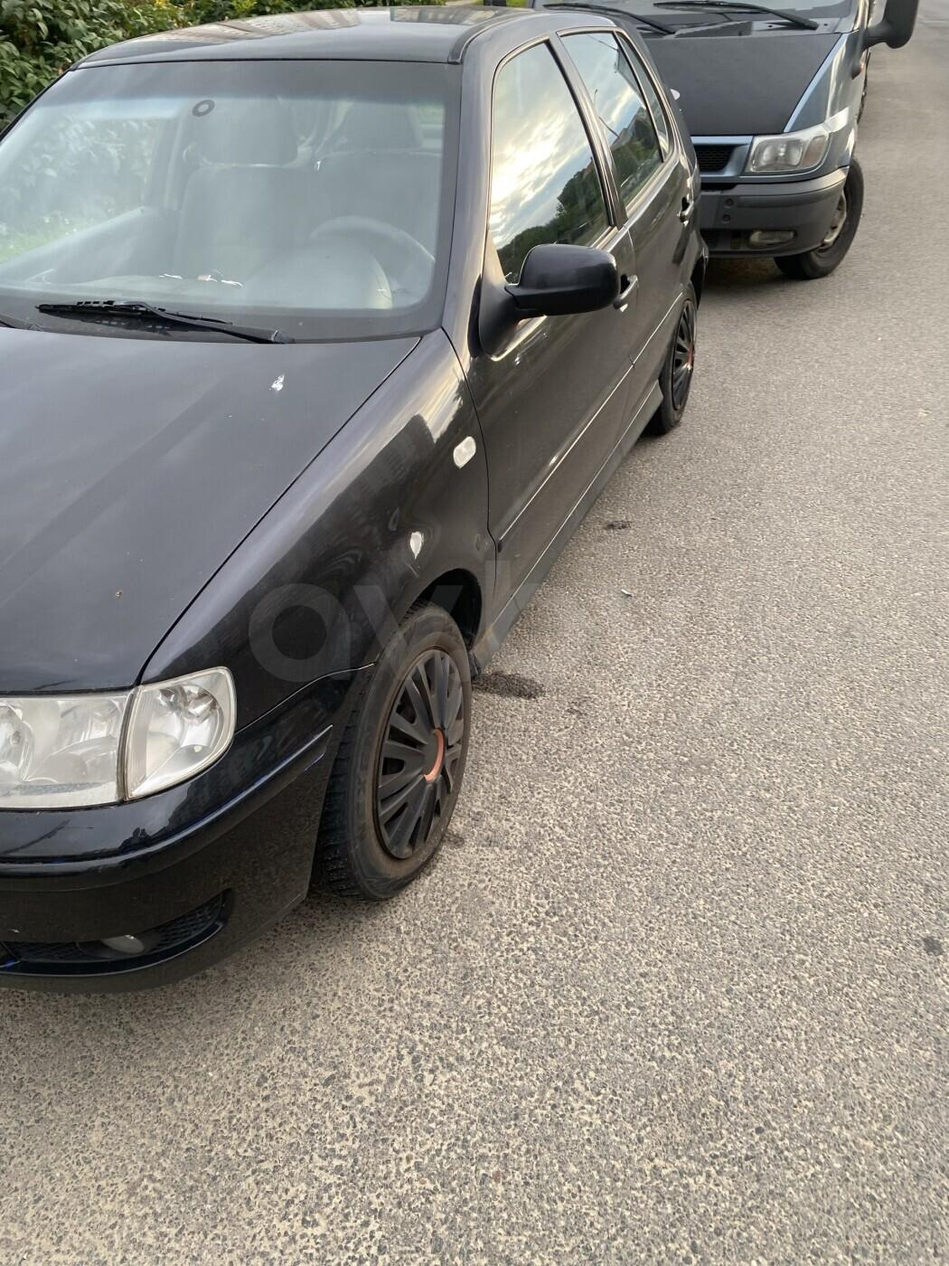Polo_2000-2002: (0, 5, 700, 977)
